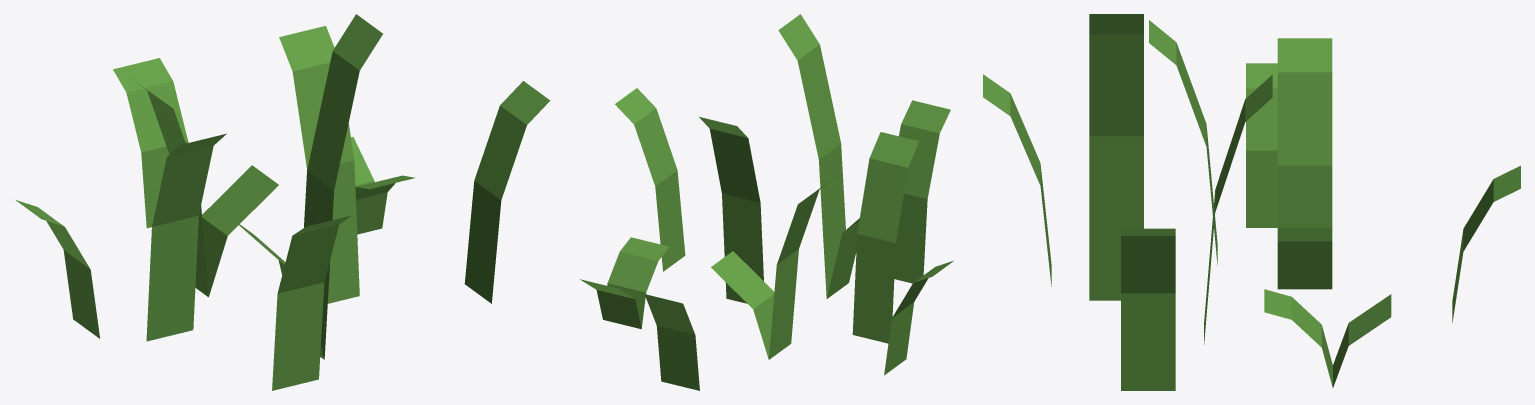
The model's file is grass-1.glb.
3 views of the same model, side by side, from view 1: azimuth 30°, elevation 25°; view 2: azimuth 150°, elevation 25°; view 3: azimuth 270°, elevation 25° (orthographic). The views are drawn at different scales.
Parts seen in each view (by area): view 1: grass; view 2: grass; view 3: grass.
Boxes of the visible parts, x1,y1,x2,y2 form: grass: (15, 14, 550, 390); grass: (580, 14, 953, 390); grass: (983, 14, 1520, 390).
Bounding box in the file's own units: 0.3751 × 0.25 × 0.386.
